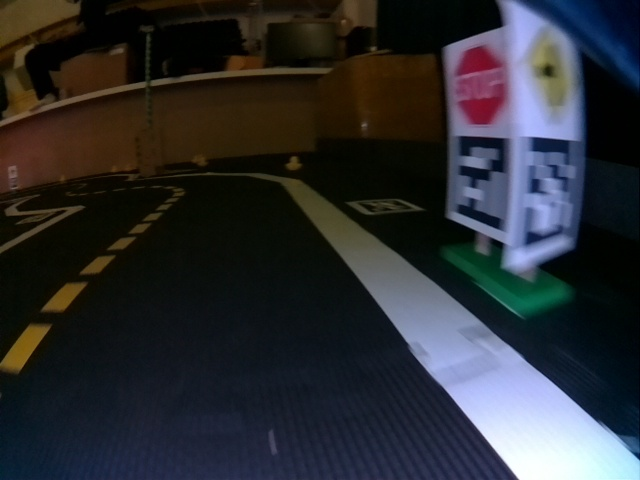Duckie: (287, 157, 301, 170), (198, 158, 206, 166)
QR code: (518, 135, 583, 248), (450, 134, 510, 233), (347, 200, 422, 215)
Stop sign: (451, 46, 506, 126)
